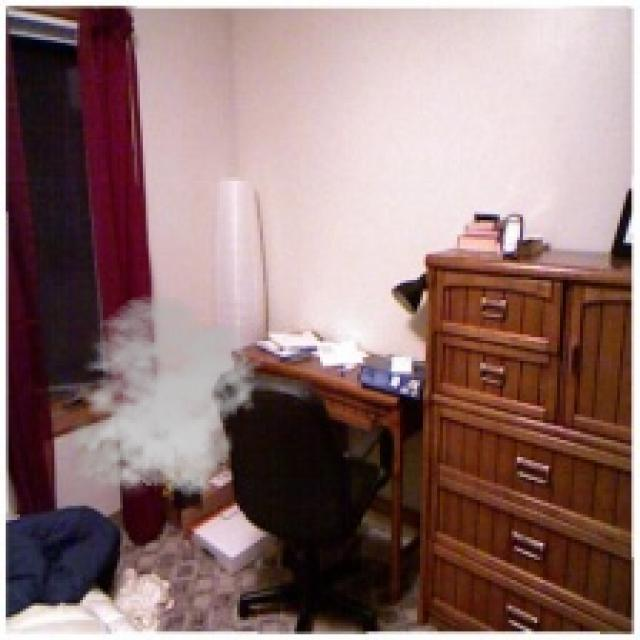Smoke: (60, 294, 263, 503)
